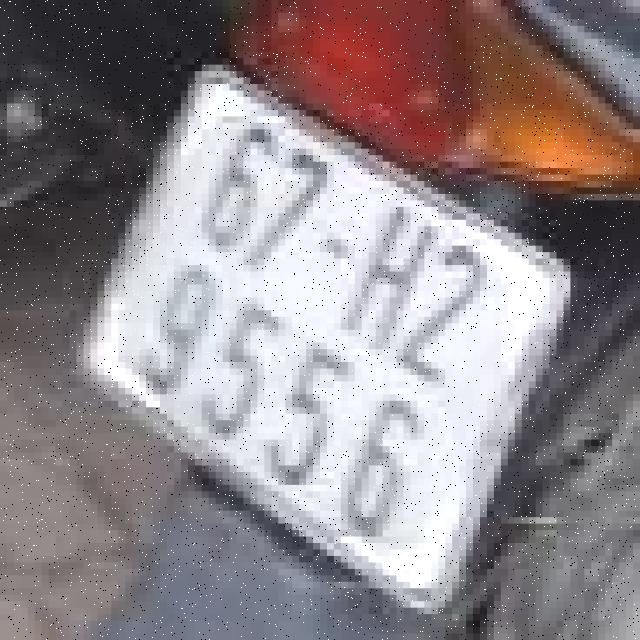2: (383, 228, 518, 402)
5: (254, 327, 369, 503), (186, 289, 304, 449)
6: (323, 390, 439, 548), (188, 111, 294, 262)
7: (230, 136, 346, 293)
9: (126, 250, 244, 408)
H: (335, 190, 458, 368)
